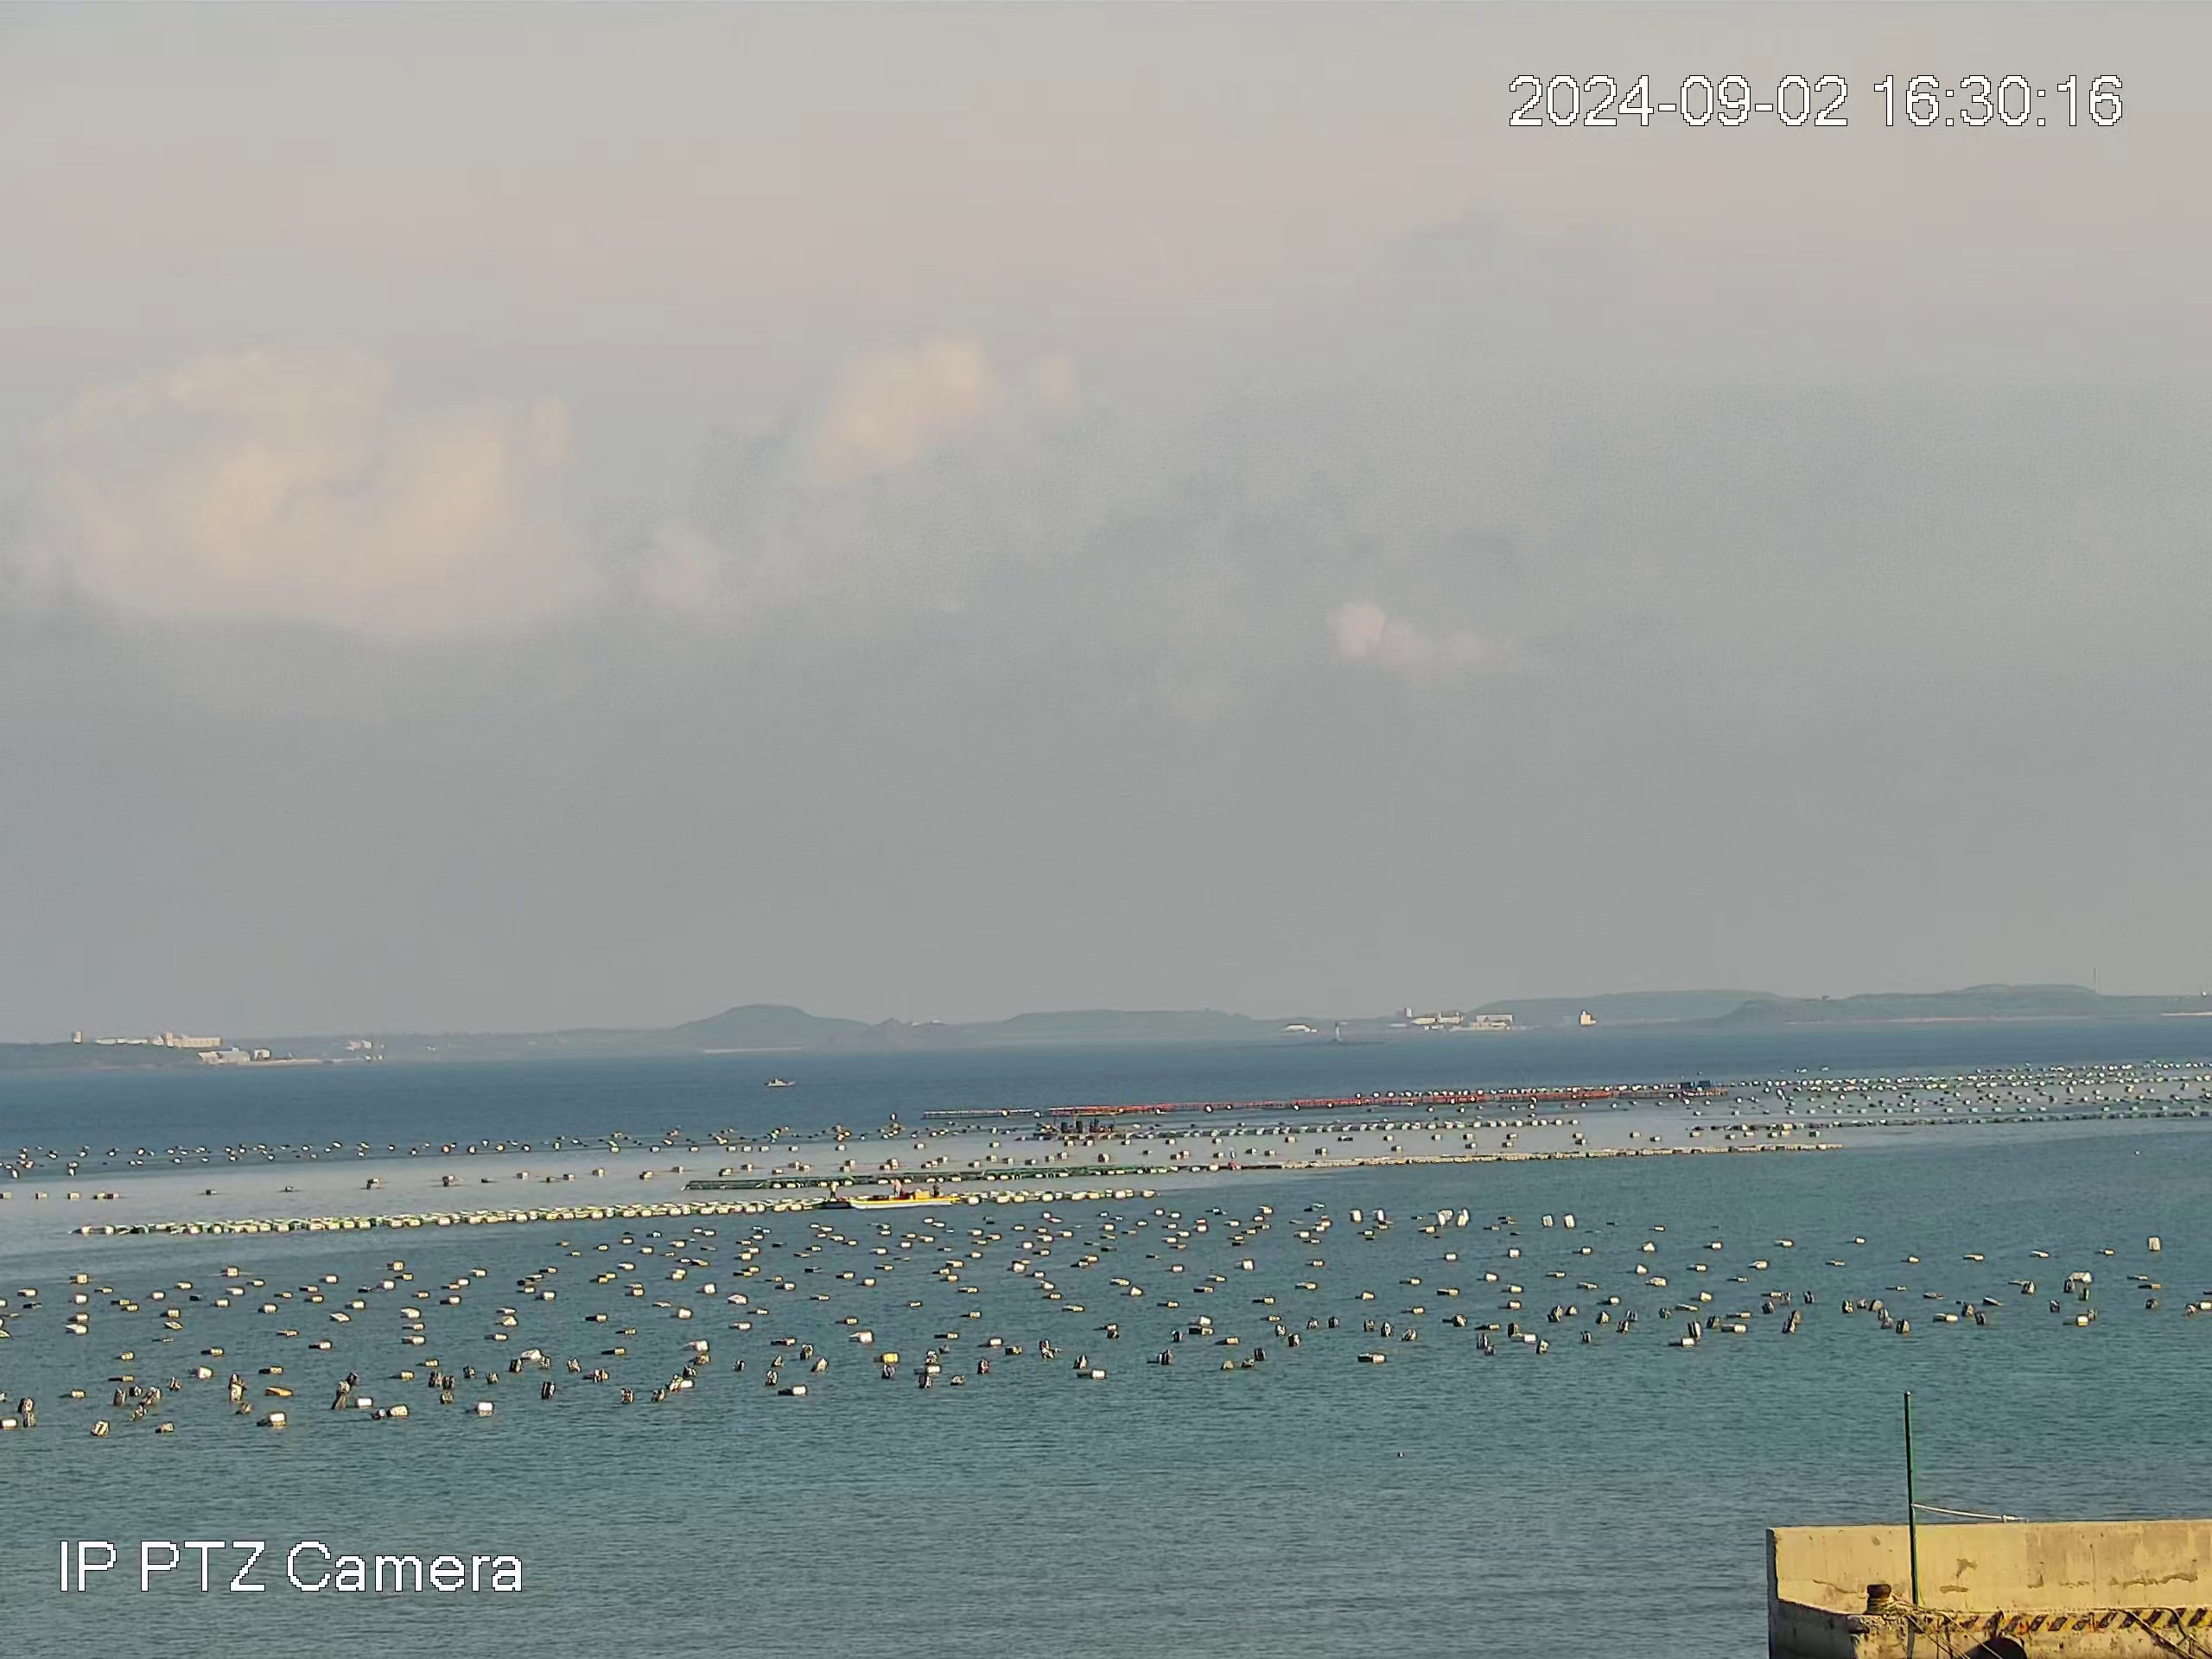boat: (846, 1178, 961, 1210), (1068, 1111, 1124, 1134), (765, 1077, 798, 1087)
